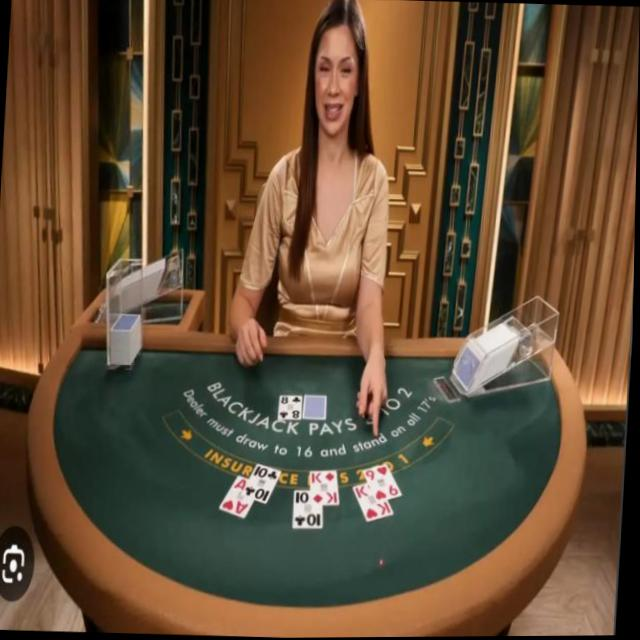Card-10: (248, 460, 283, 502), (294, 488, 324, 527)
Card-8: (279, 392, 303, 418)
Card-9: (365, 463, 403, 503)
Card-A: (221, 473, 256, 518)
Card-K: (355, 482, 396, 521), (312, 468, 342, 505)
